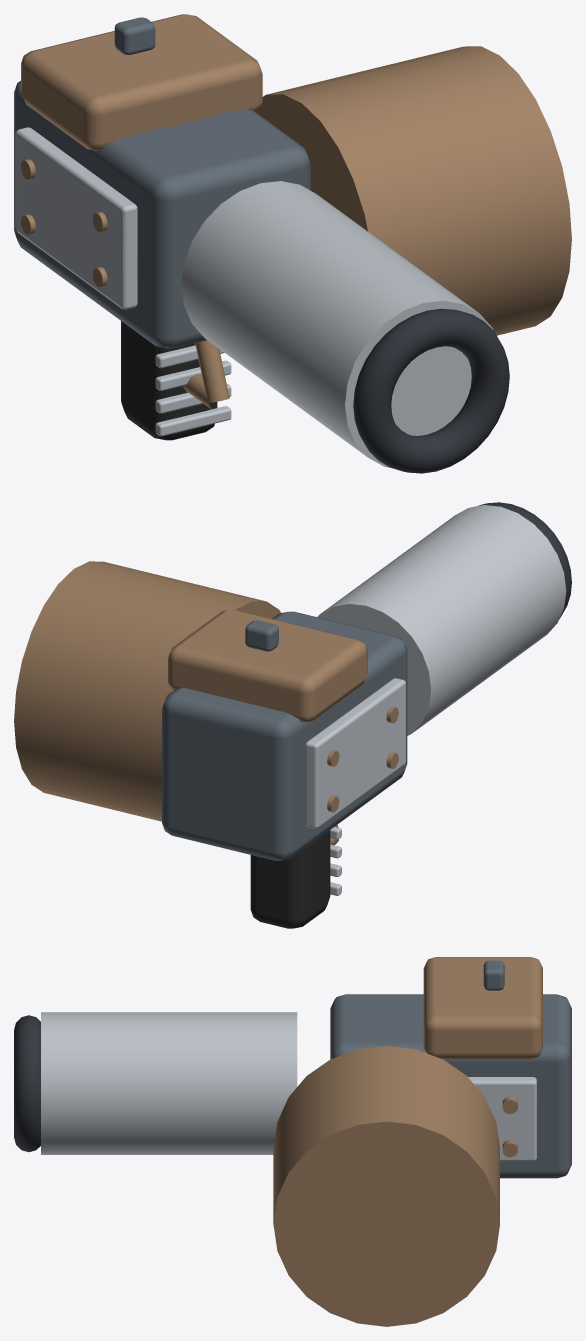
Rendered from arena-shooter-map-kit-grenade-launcher-pickup-72b8005b__23140.glb.
3 views of the same model, one above another, from view 1: azimuth 30°, elevation 25°; view 2: azimuth 150°, elevation 25°; view 3: azimuth 270°, elevation 25° (orthographic). The views are drawn at different scales.
Parts seen in each view (by area): view 1: grenade-launcher-pickup; view 2: grenade-launcher-pickup; view 3: grenade-launcher-pickup.
Boxes of the visible parts, x1,y1,x2,y2 form: grenade-launcher-pickup: [14, 14, 571, 473]; grenade-launcher-pickup: [14, 502, 571, 928]; grenade-launcher-pickup: [14, 957, 571, 1326].
Size of the model in its own units: 0.6 by 0.55 by 0.9355.
